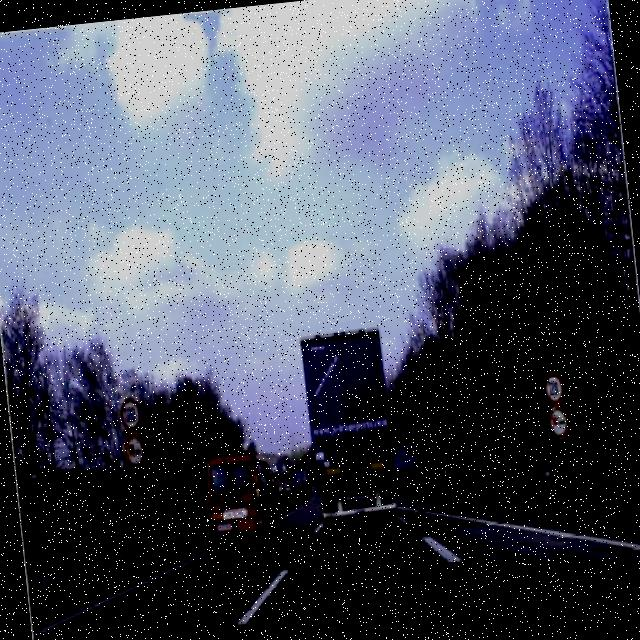Ograniczenie predkosci do 120: (540, 367, 568, 408), (116, 394, 144, 433)
Zakaz wyprzedzania: (120, 429, 148, 474), (544, 402, 572, 441)
